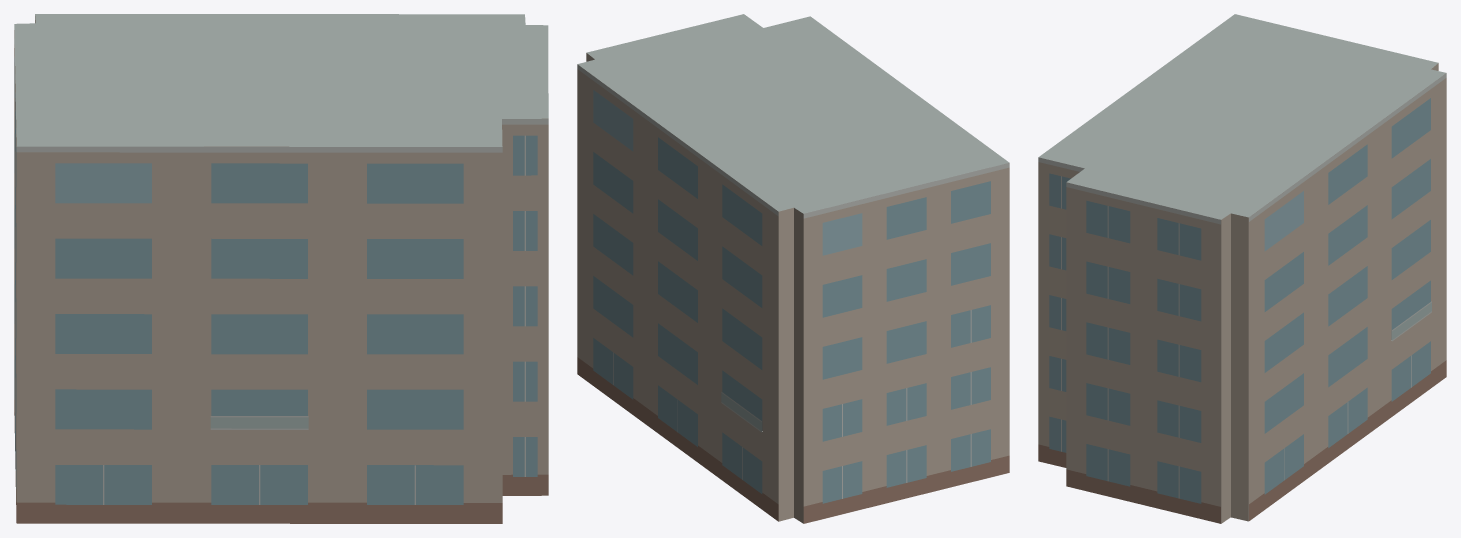
File: survey-upis-32718132.glb
3 renders of one model, left to right at view 1: azimuth 30°, elevation 25°; view 2: azimuth 150°, elevation 25°; view 3: azimuth 270°, elevation 25°, orthographic. The views are drawn at different scales.
Visible parts, largest first — view 1: survey-upis-32718132.tmp; view 2: survey-upis-32718132.tmp; view 3: survey-upis-32718132.tmp.
Boxes of the visible parts, x1,y1,x2,y2 form: survey-upis-32718132.tmp: (14, 14, 548, 523); survey-upis-32718132.tmp: (577, 14, 1009, 523); survey-upis-32718132.tmp: (1038, 14, 1446, 523).
Size of the model in its own units: 22.92 by 15.78 by 19.21.
